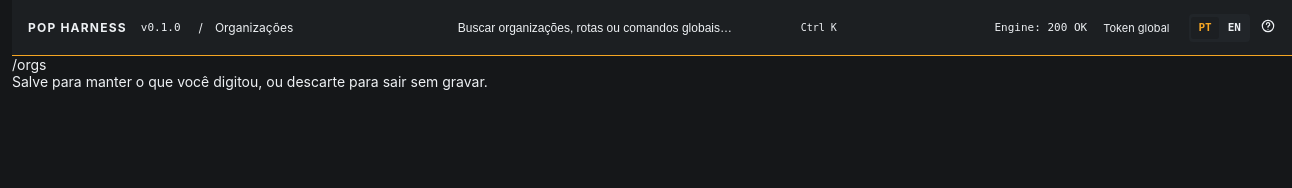
busca global, versão e estado da instância (CF-04) › agrupa o resultado em Organizações, Telas e Comandos do poph
Type "organiz" into the dropdown named "Buscar organizações, telas e comandos" at [638, 28], box [428,12,848,42]
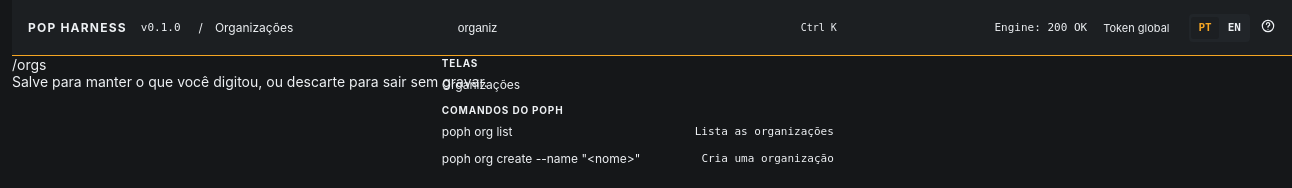
Check: the element "Telas" is shown, box [442,56,520,92]
Check: the element "Comandos do poph" is shown, box [432,98,844,172]
